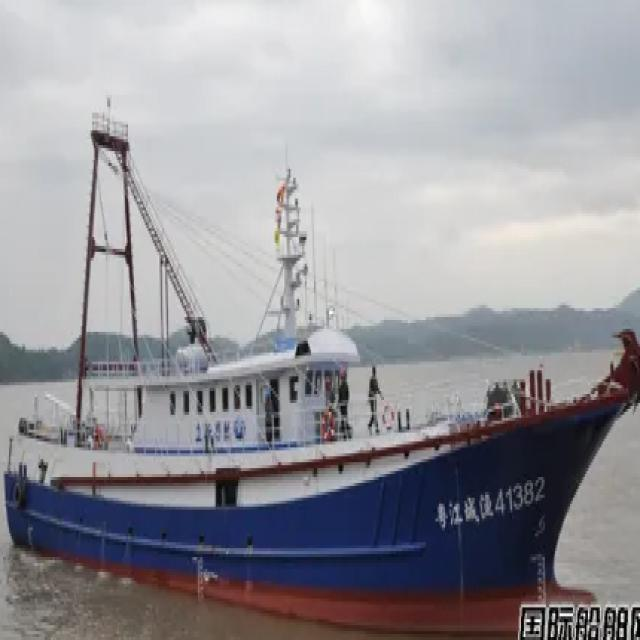fishing boat: (5, 99, 636, 640)
